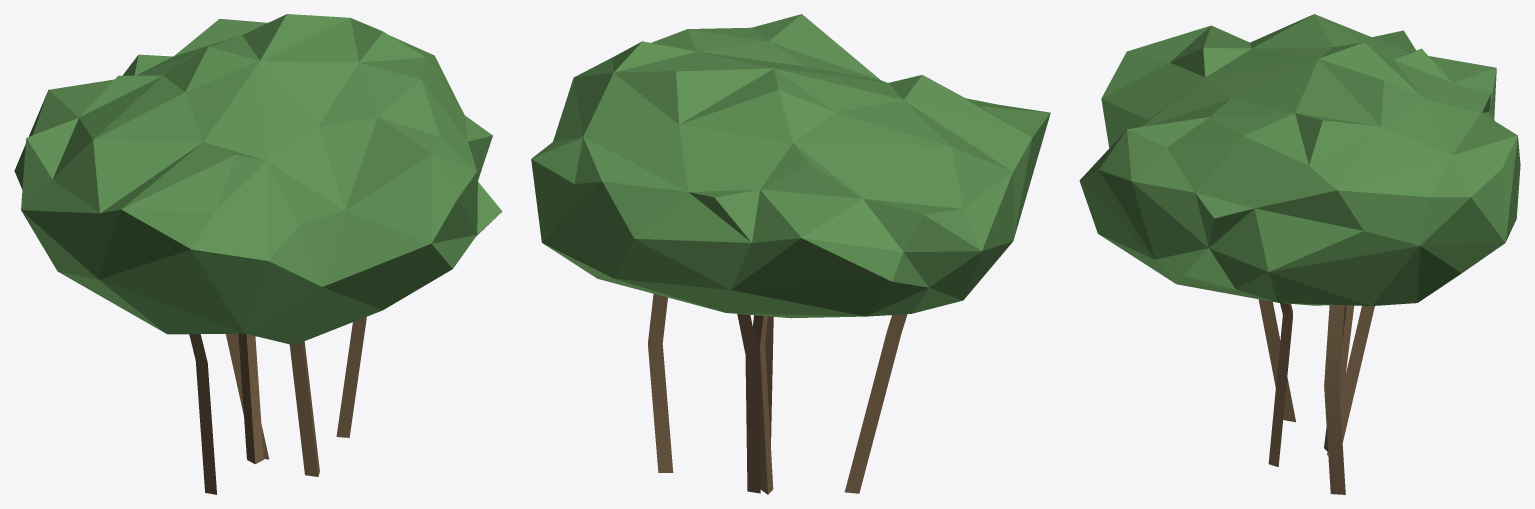
The model's file is SM_Env_Bush_01.fbx.
3 views of the same model, side by side, from view 1: azimuth 30°, elevation 25°; view 2: azimuth 150°, elevation 25°; view 3: azimuth 270°, elevation 25° (orthographic). The views are drawn at different scales.
Visible parts, largest first — view 1: SM_Env_Bush_01; view 2: SM_Env_Bush_01; view 3: SM_Env_Bush_01.
Boxes of the visible parts, x1,y1,x2,y2 form: SM_Env_Bush_01: (14,14,502,494); SM_Env_Bush_01: (531,14,1050,494); SM_Env_Bush_01: (1079,14,1520,494).
Bounding box in the file's own units: 0.014 × 0.0132 × 0.0133.
Materials: 1 (1 with a texture image).
